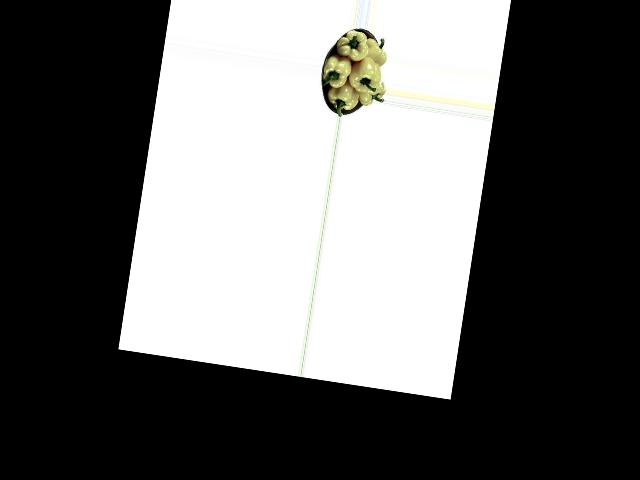bell_pepper: (354, 78, 386, 111)
